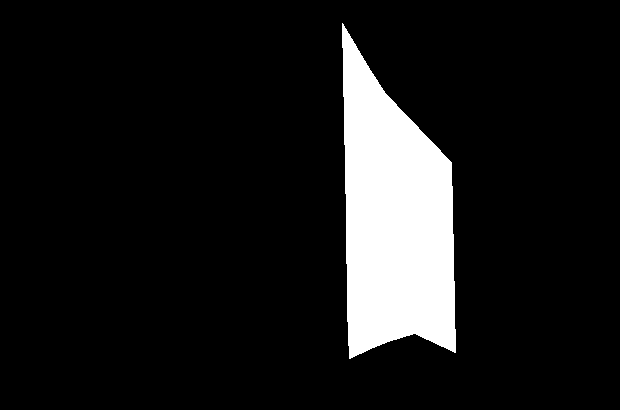type3s: (337, 19, 459, 360)
